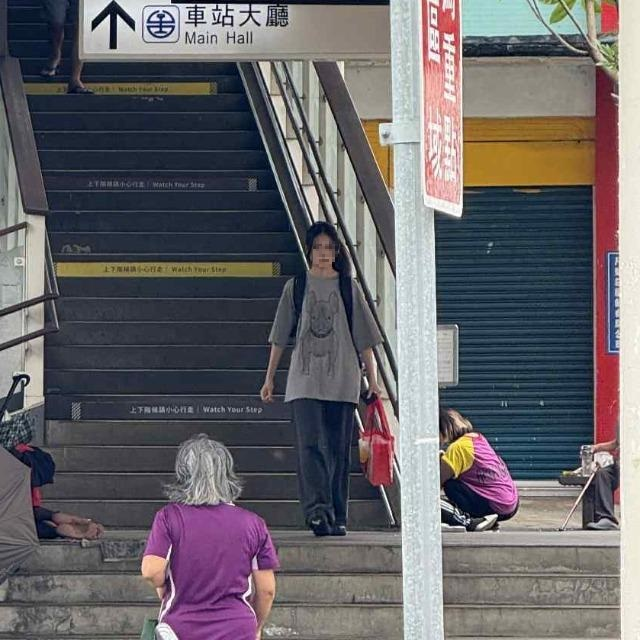NoHelmet: (167, 434, 245, 510)
NoVest: (152, 501, 274, 640), (279, 270, 380, 394)
